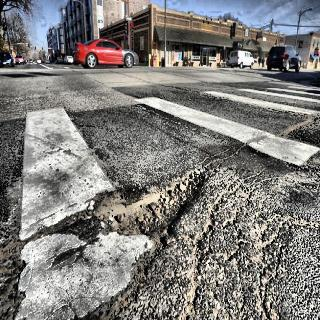crack: (224, 125, 272, 159)
